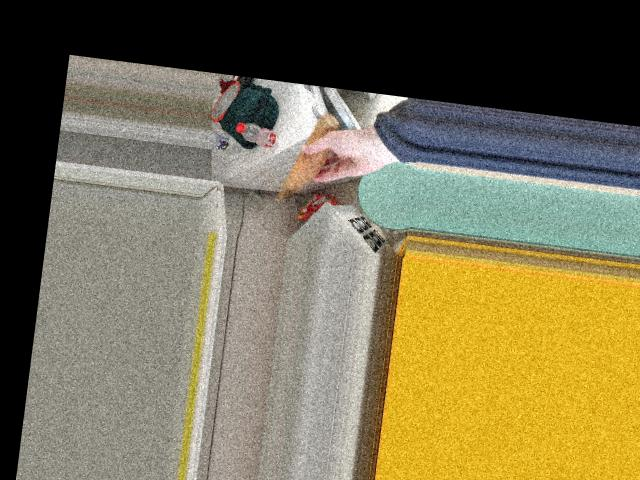sweet_potato: (284, 115, 338, 186)
